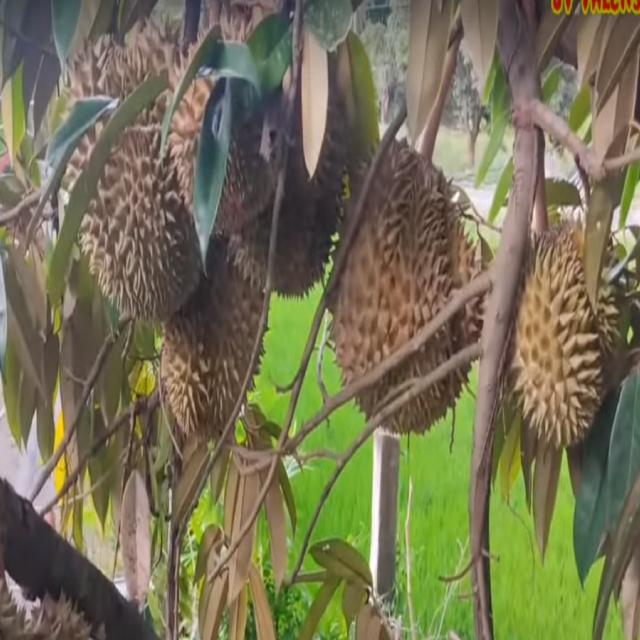mature: (53, 26, 204, 330), (335, 142, 478, 441), (506, 214, 620, 446), (160, 230, 268, 442)
